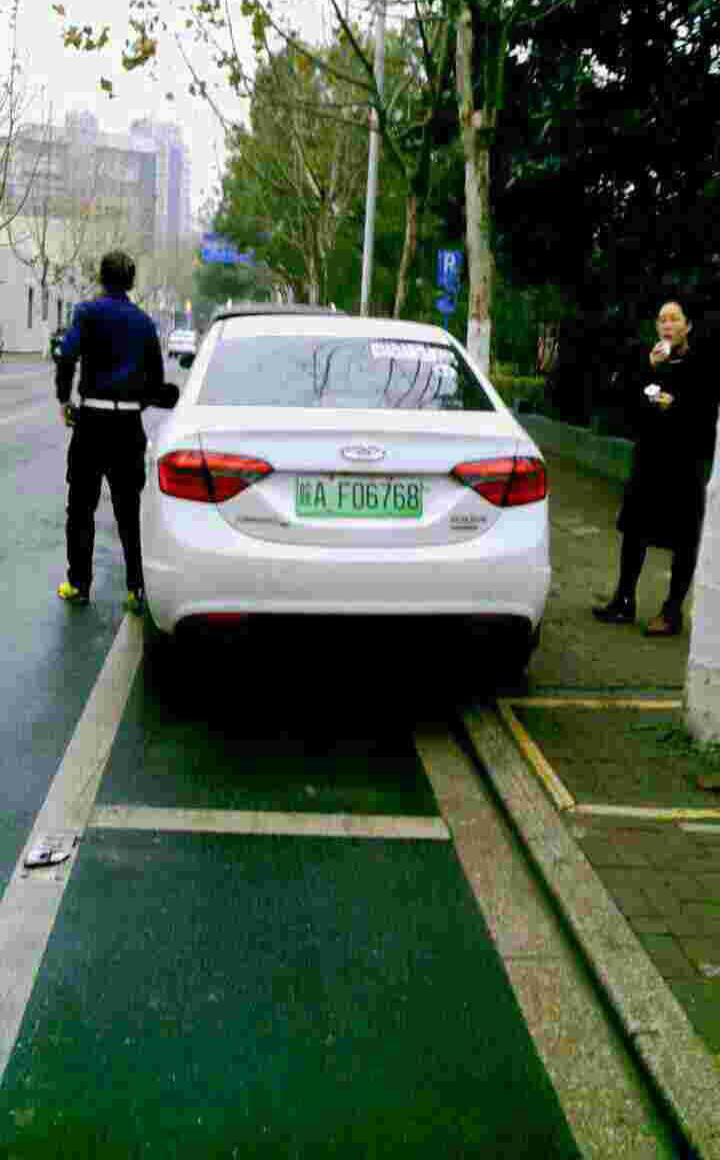car: (288, 466, 438, 523)
